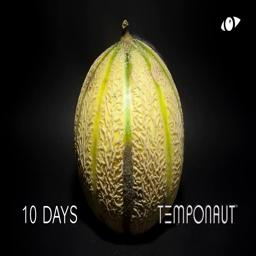Melon Ripe: (75, 20, 183, 233)
